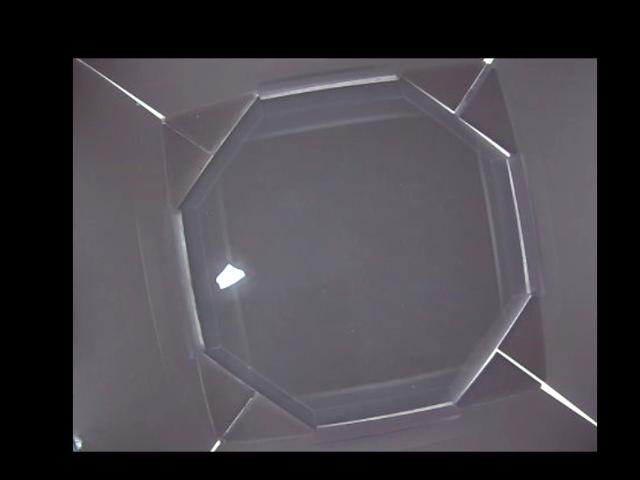China: (215, 263, 248, 291)
